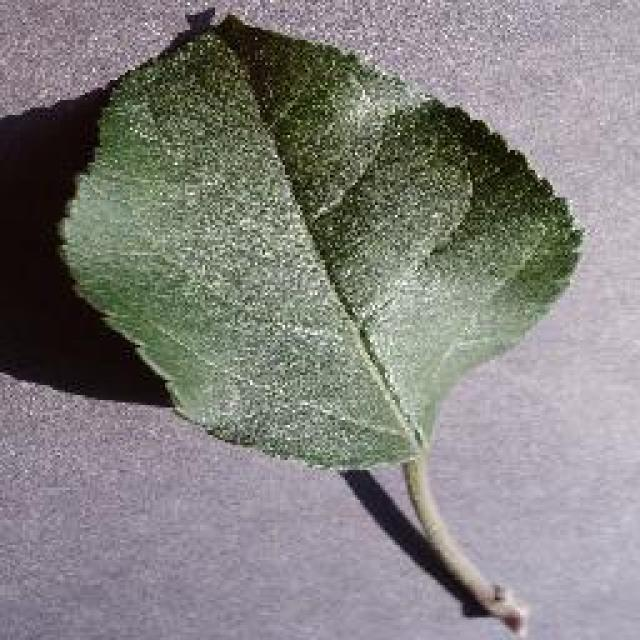apple healthy: (53, 3, 585, 635)
